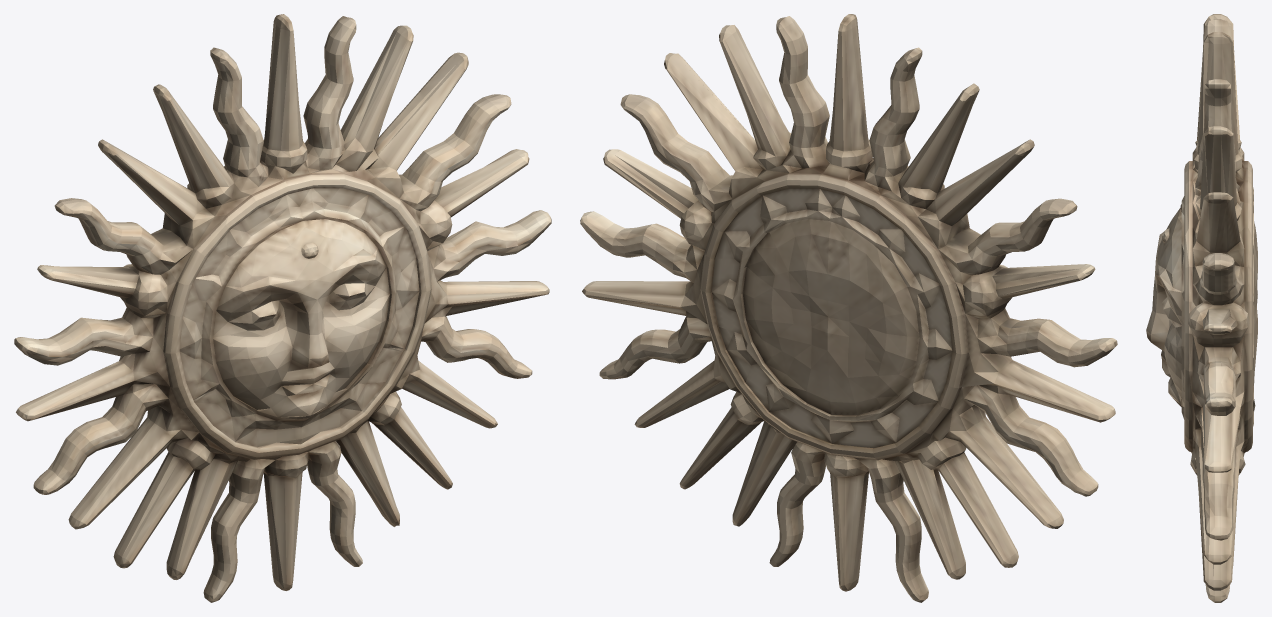
File: sun.glb
3 views of the same model, side by side, from view 1: azimuth 30°, elevation 25°; view 2: azimuth 150°, elevation 25°; view 3: azimuth 270°, elevation 25° (orthographic). The views are drawn at different scales.
Parts seen in each view (by area): view 1: Mesh_0; view 2: Mesh_0; view 3: Mesh_0.
Boxes of the visible parts, x1=… form: Mesh_0: x1=14, y1=14, x2=551, y2=602; Mesh_0: x1=580, y1=14, x2=1117, y2=602; Mesh_0: x1=1146, y1=14, x2=1257, y2=602.
Bounding box in the file's own units: 1.85 × 1.91 × 0.3562.
1 material, 1 textured.
